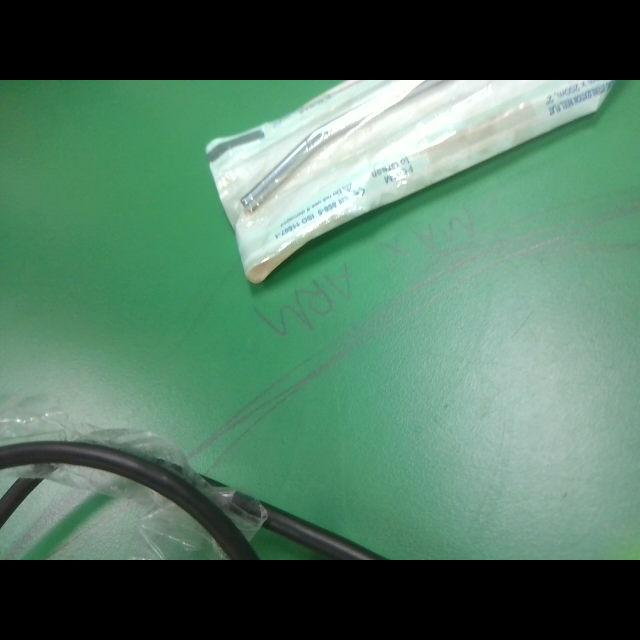triple_syringe: (204, 80, 618, 284)
